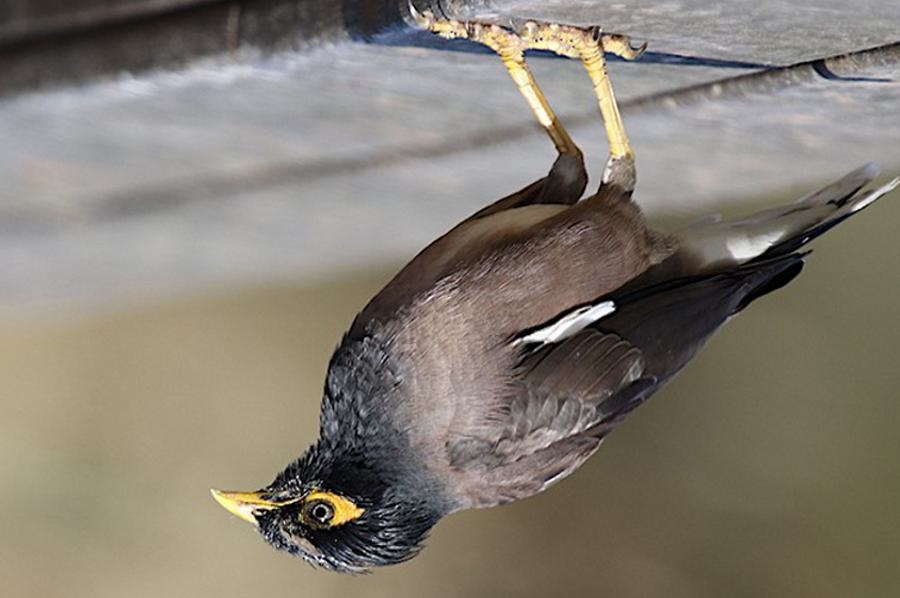myna: (202, 55, 827, 589)
